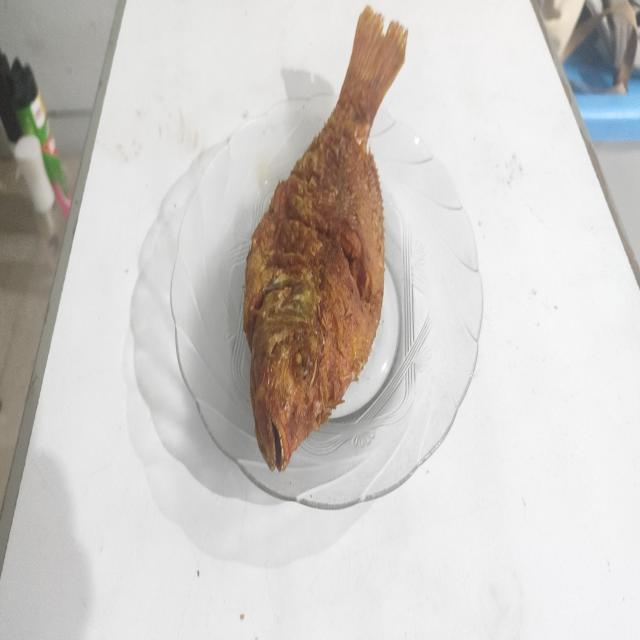ikan_mujair: (243, 8, 408, 470)
